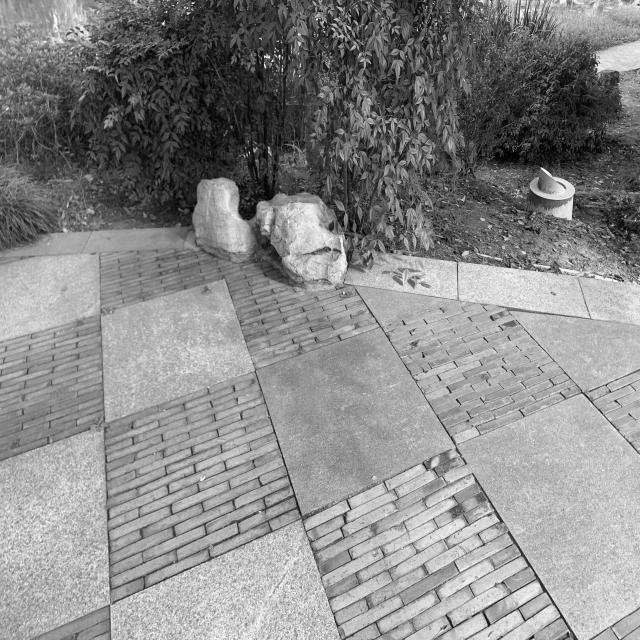Stone: (253, 187, 352, 288), (192, 178, 256, 260)
